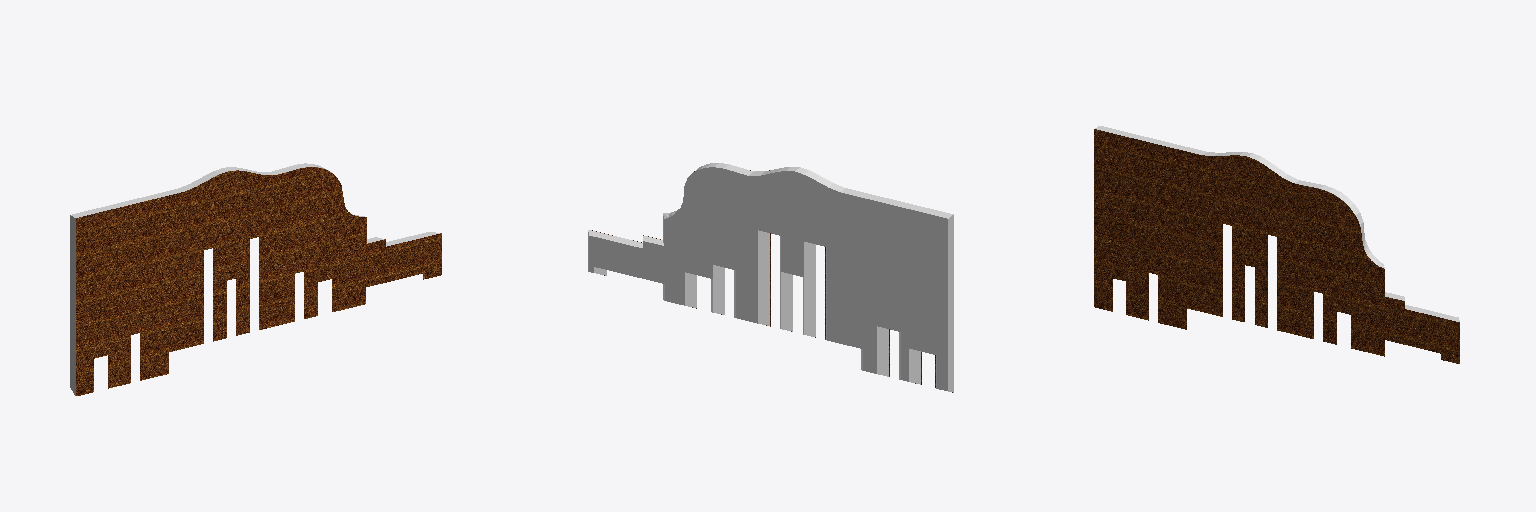
3 renders of one model, left to right at view 1: azimuth 30°, elevation 25°; view 2: azimuth 150°, elevation 25°; view 3: azimuth 330°, elevation 25°, orthographic.
Visible parts, largest first — view 1: polygon0, polygon1; view 2: polygon1; view 3: polygon0, polygon1.
Boxes of the visible parts, x1,y1,x2,y2 form: polygon0: [76, 167, 441, 395]; polygon1: [70, 163, 439, 395]; polygon1: [588, 163, 953, 392]; polygon0: [1094, 129, 1459, 363]; polygon1: [1095, 126, 1459, 321].
Size of the model in its own units: 800 by 393 by 20.
Materials: 2 (1 with a texture image).